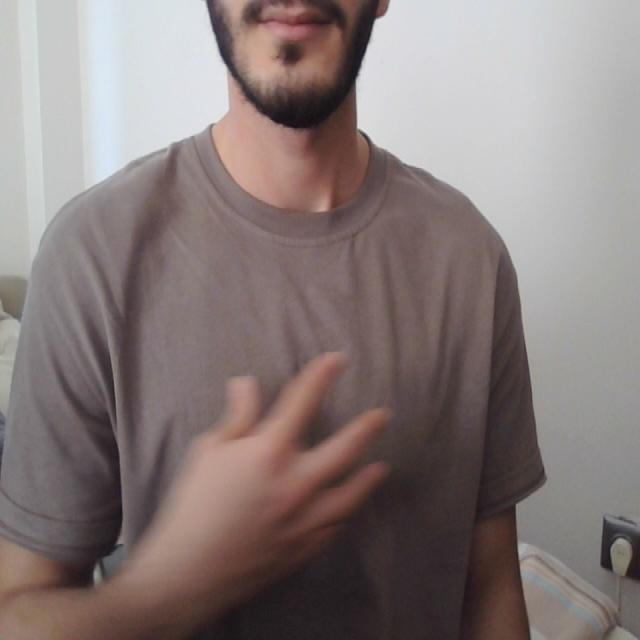Anne: (109, 352, 470, 605)
